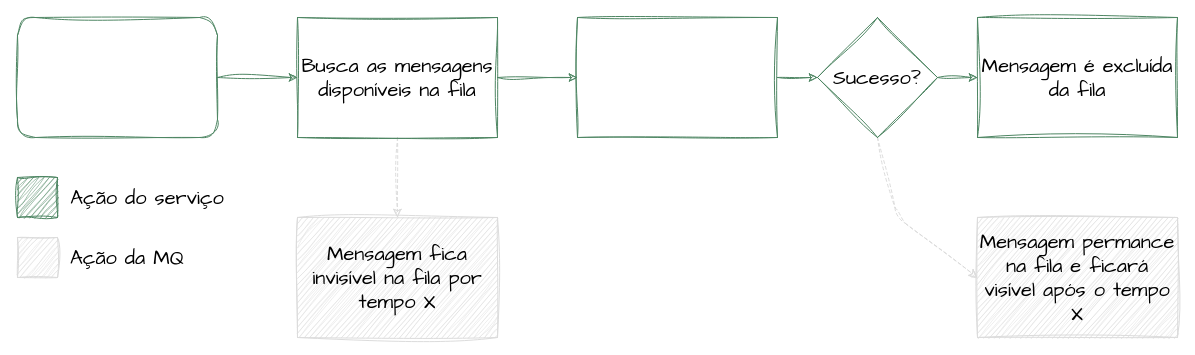
Image size: 1195x355. Some labels were removed from this diagram. The shapes that lost their labels are listed below. From the top down, each one's box as (x1, y1, x2, y2) in pixels, then its label:
(16, 16, 218, 138): Serviço C
(576, 16, 778, 138): Processa a mensagem
